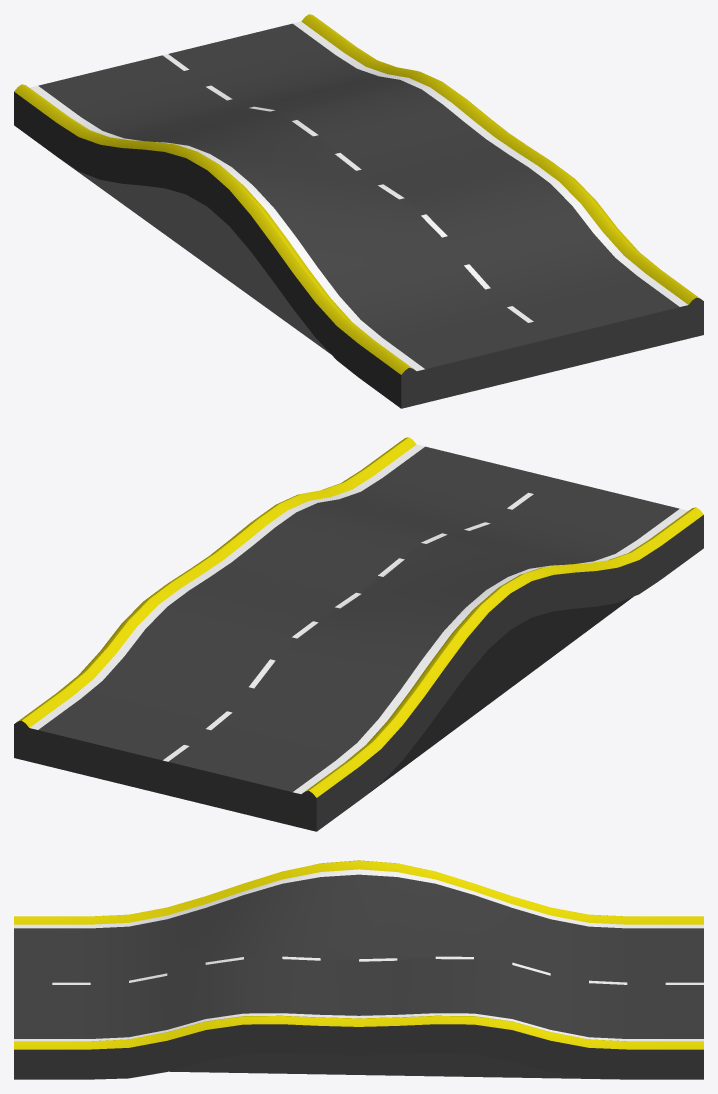
Rendered from platform3.fbx.
3 renders of one model, top to bottom at view 1: azimuth 30°, elevation 25°; view 2: azimuth 150°, elevation 25°; view 3: azimuth 270°, elevation 25°, orthographic. The views are drawn at different scales.
Visible parts, largest first — view 1: Cube; view 2: Cube; view 3: Cube.
Part boxes in pixels (<box>): Cube: <box>14,14,703,408</box>; Cube: <box>14,437,703,831</box>; Cube: <box>14,860,703,1079</box>.
Size of the model in its own units: 572 by 184 by 1267.
